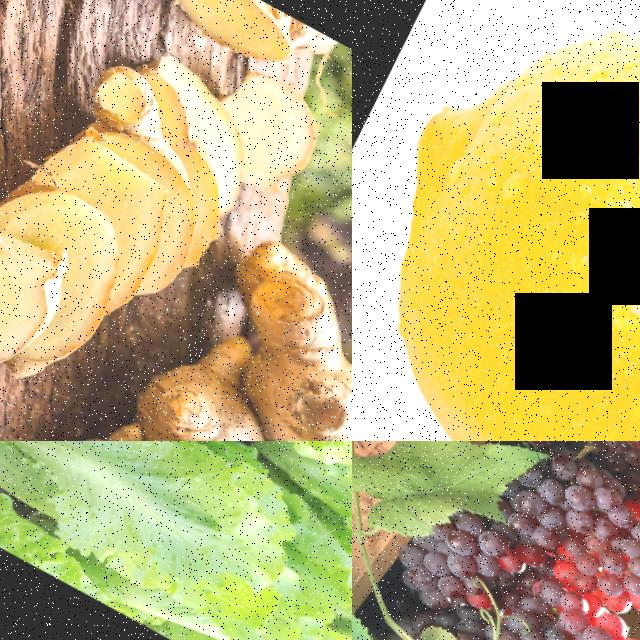ginger: (190, 217, 352, 441), (103, 339, 300, 441)
grapes: (501, 441, 640, 640), (400, 495, 528, 630), (491, 555, 640, 640)
lemon: (352, 0, 640, 441)
lettuce: (42, 441, 352, 640), (214, 441, 352, 565)
